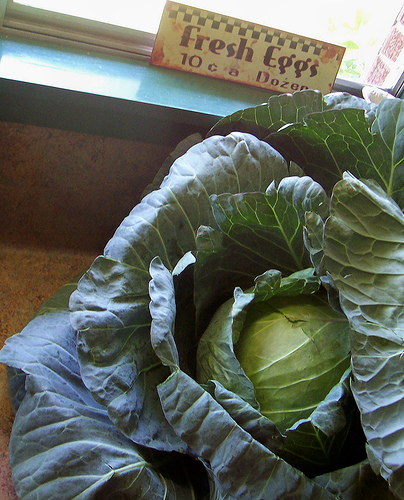cabbage: (0, 88, 402, 498)
